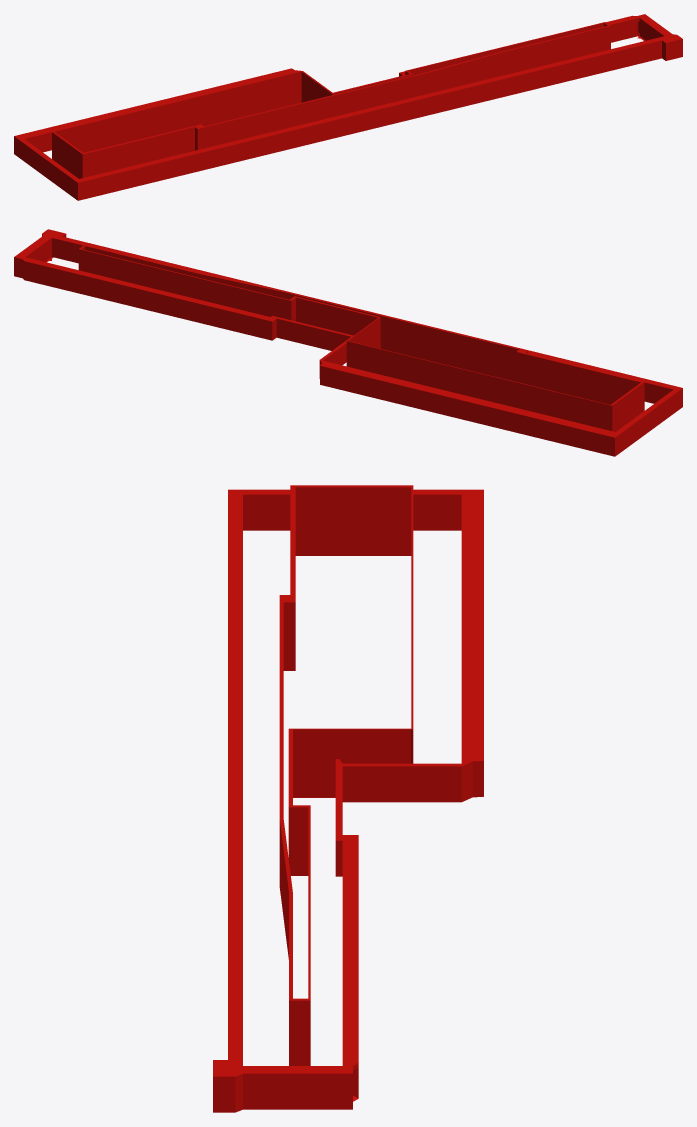
File: collisions_6.obj
The picture shows the model from 3 angles, top to bottom: view 1: azimuth 30°, elevation 25°; view 2: azimuth 150°, elevation 25°; view 3: azimuth 270°, elevation 25°; orthographic projection. The views are drawn at different scales.
Parts seen in each view (by area): view 1: Cube.002_Cube.010, Cube_Cube.005; view 2: Cube.002_Cube.010, Cube_Cube.005; view 3: Cube_Cube.005, Cube.002_Cube.010.
Part boxes in pixels (bbox=[...]): Cube.002_Cube.010: bbox=[52, 22, 610, 178]; Cube_Cube.005: bbox=[14, 14, 682, 200]; Cube.002_Cube.010: bbox=[78, 245, 644, 431]; Cube_Cube.005: bbox=[14, 229, 682, 456]; Cube_Cube.005: bbox=[213, 489, 483, 1112]; Cube.002_Cube.010: bbox=[279, 485, 413, 1065].
Size of the model in its own units: 15946 by 932 by 3110.
